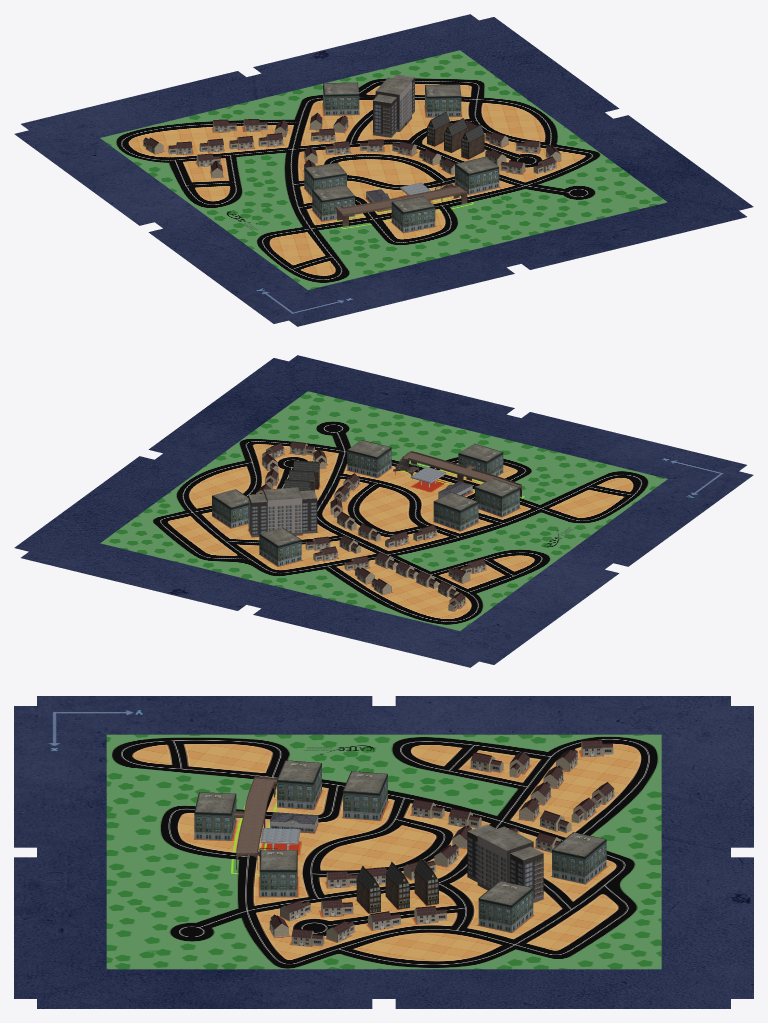
The model's file is testbedTrakingLona.dae.
3 renders of one model, top to bottom at view 1: azimuth 30°, elevation 25°; view 2: azimuth 150°, elevation 25°; view 3: azimuth 270°, elevation 25°, orthographic. The views are drawn at different scales.
Parts seen in each view (by area): view 1: ARCAS_PipesScenario, Plane001, Box004, Box063, Box064, Box109, Box065, Box066, Box001, Box034, Box042, Box041 (+1 smaller); view 2: ARCAS_PipesScenario, Plane001, Box004, Box109, Box034, Box064, Box001, Box065, Box066, Box063; view 3: Plane001, ARCAS_PipesScenario, Box004, Box066, Box065, Box109, Box034, Box001, Box063, Box064, Box003, Box042 (+3 smaller).
Part boxes in pixels (box(x1,y1,x2,y2)): ARCAS_PipesScenario: box(14, 14, 753, 326); Plane001: box(100, 50, 667, 289); Box004: box(373, 74, 414, 137); Box063: box(391, 195, 435, 232); Box064: box(455, 156, 499, 194); Box109: box(335, 181, 467, 226); Box065: box(323, 82, 359, 115); Box066: box(425, 84, 461, 117); Box001: box(312, 185, 354, 221); Box034: box(304, 162, 346, 196); Box042: box(461, 124, 484, 159); Box041: box(444, 118, 467, 152); ARCAS_PipesScenario: box(14, 355, 753, 667); Plane001: box(100, 391, 667, 630); Box004: box(248, 487, 317, 537); Box109: box(393, 451, 521, 496); Box034: box(433, 492, 478, 531); Box064: box(347, 440, 391, 477); Box001: box(475, 478, 519, 516); Box065: box(259, 527, 301, 566); Box066: box(212, 489, 248, 528); Box063: box(458, 443, 503, 475); Plane001: box(106, 734, 661, 969); ARCAS_PipesScenario: box(14, 696, 753, 1008); Box004: box(467, 824, 543, 902); Box066: box(478, 880, 533, 932); Box065: box(552, 832, 606, 883); Box109: box(233, 776, 277, 869); Box034: box(343, 771, 387, 820); Box001: box(277, 760, 321, 809); Box063: box(194, 792, 236, 840); Box064: box(259, 850, 297, 897); Box003: box(414, 857, 438, 905); Box042: box(356, 866, 380, 913).
Size of the model in its own units: 16 by 16 by 1.19.
12 materials, 12 textured.
